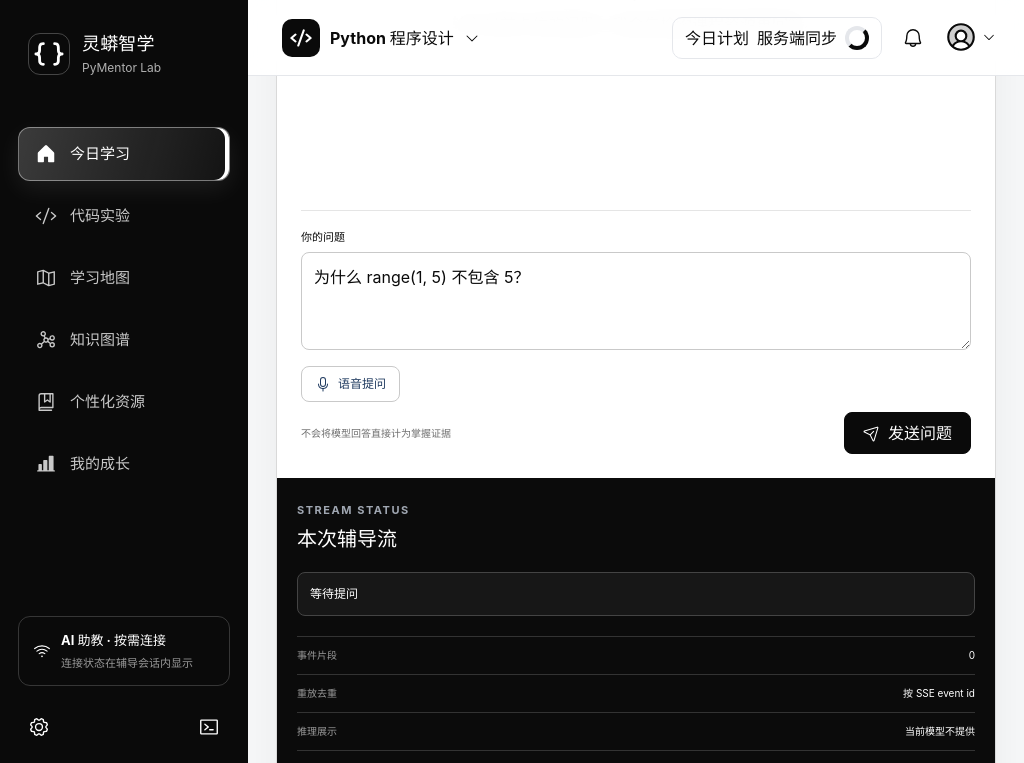
FE-022 voice question › degrades to a typed prompt when ASR returns 503 and never blocks the keyboard flow
(page scrolled)
Click the button "语音提问".
click(350, 384)  # box [301,366,400,402]
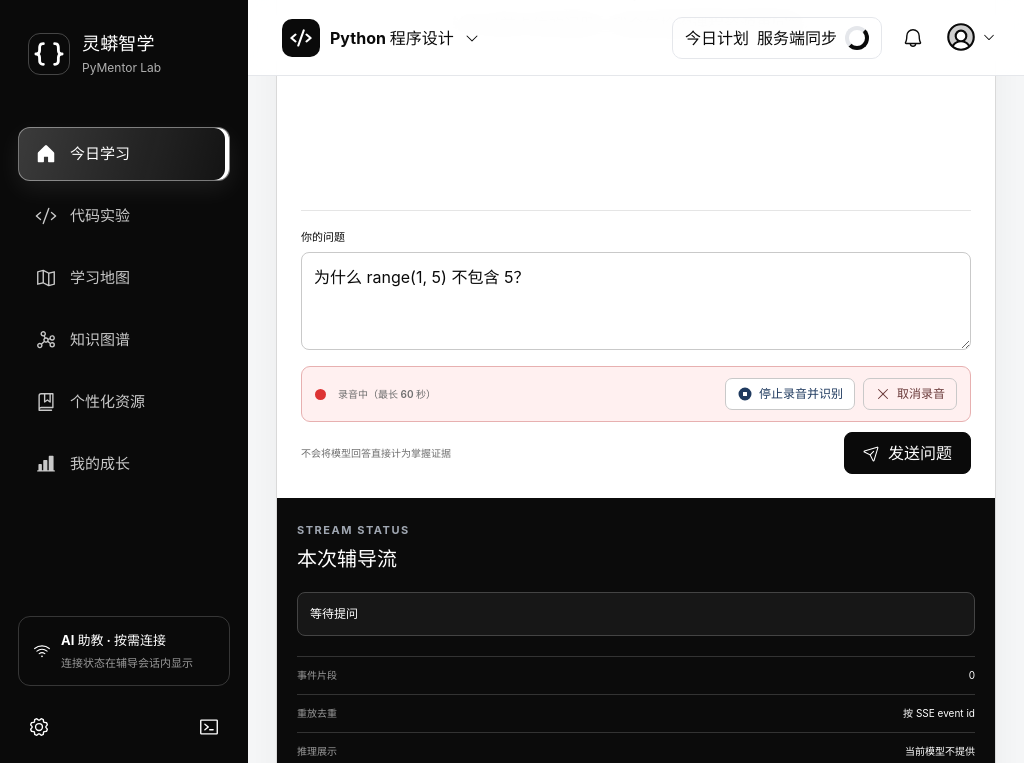
Click the button "停止录音并识别".
click(790, 394)  # box [725,378,855,410]
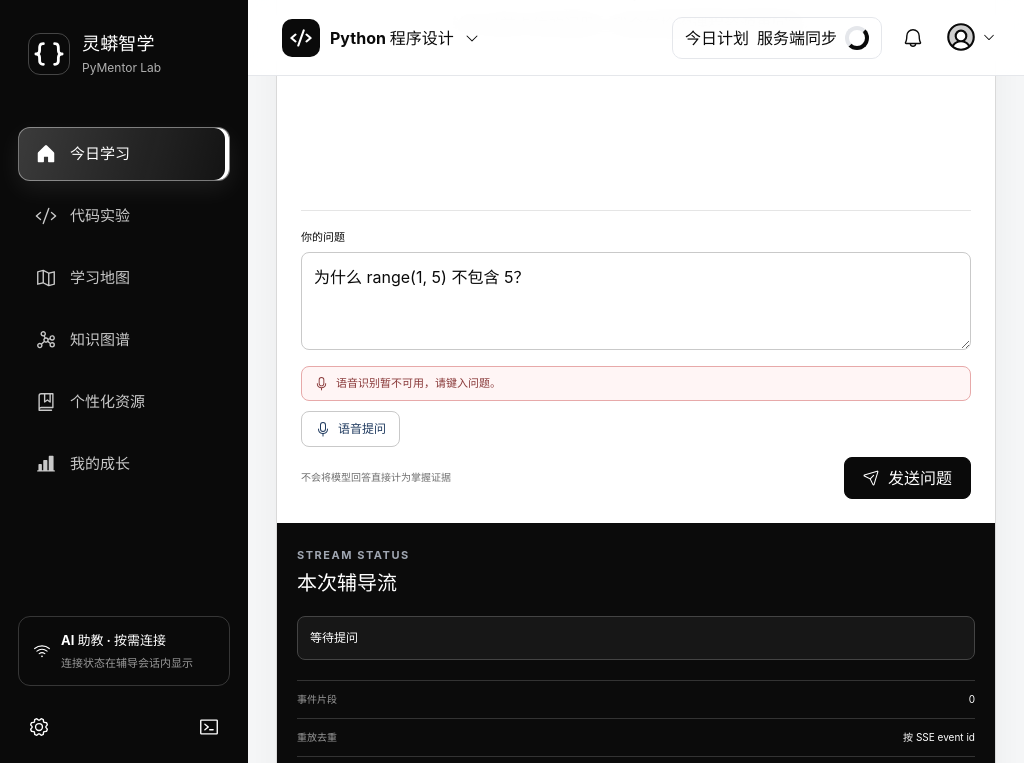
Expected: the text box labelled "你的问题" is enabled, [301,252,971,350]
Expected: the message named "语音识别不可用" shows "语音识别暂不可用，请键入问题", [336,376,501,390]
